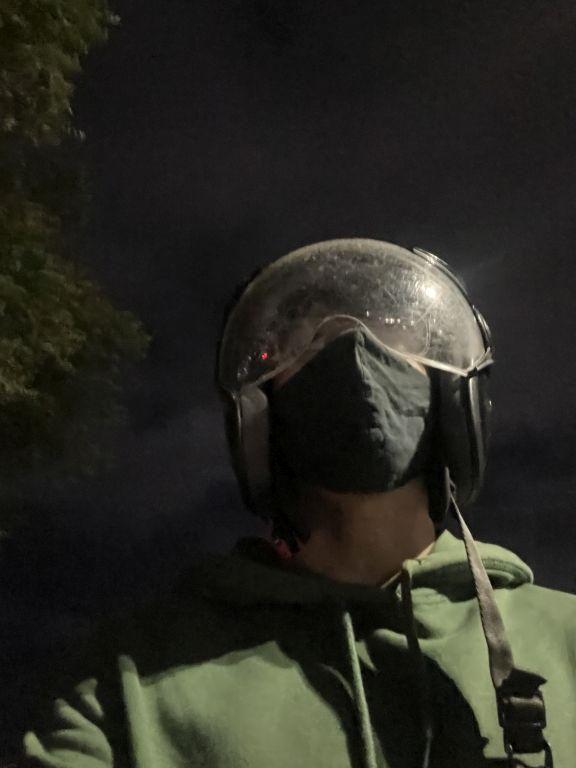helmet: (195, 214, 524, 553)
